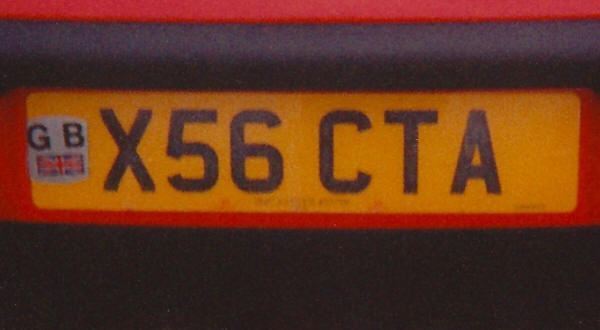license_plate: (25, 90, 582, 214)
